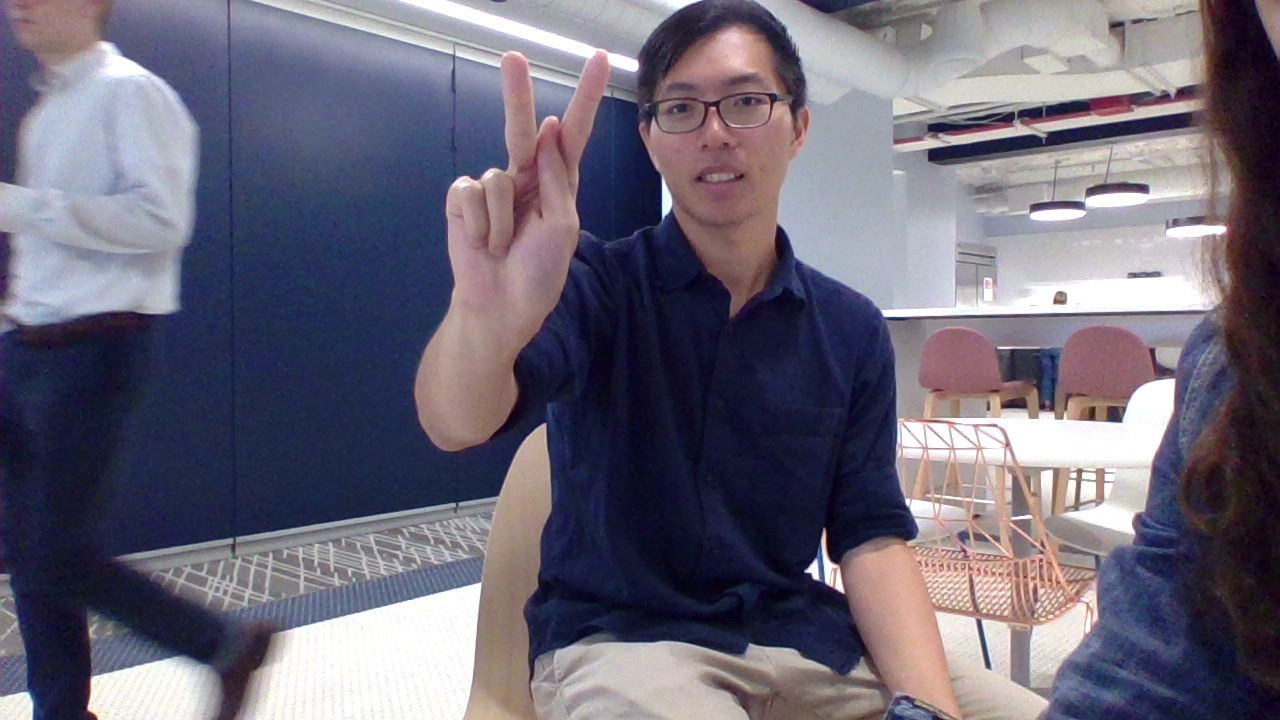k: (431, 35, 622, 362)
